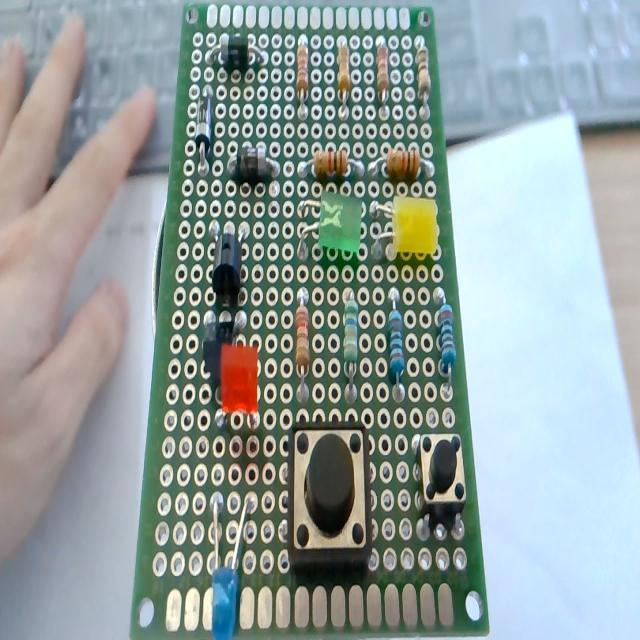diode: (223, 138, 277, 186), (190, 83, 218, 175), (206, 31, 271, 70)
led: (196, 489, 260, 640), (372, 188, 447, 268), (294, 190, 360, 266), (215, 341, 265, 439)
resistor: (381, 282, 411, 399), (337, 279, 363, 399), (298, 137, 360, 182), (433, 284, 459, 390), (370, 137, 430, 182), (288, 292, 312, 391)
switch: (283, 414, 377, 572), (412, 428, 470, 534)
transistor: (202, 210, 258, 303)
